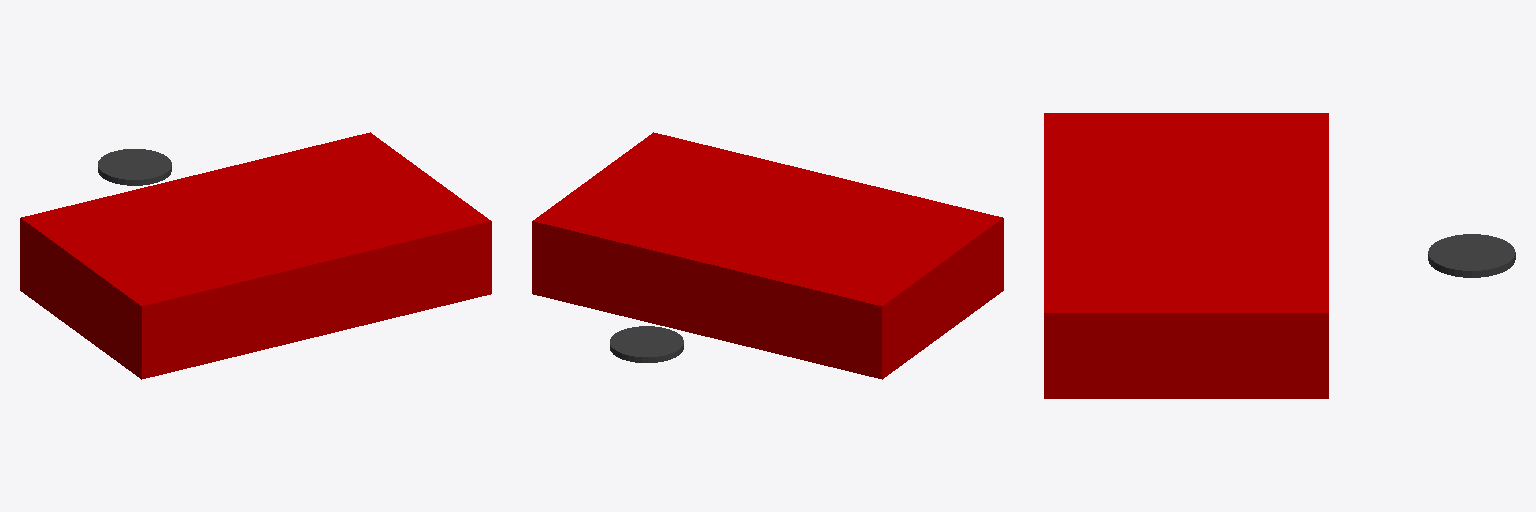
The robot description file, URDF, robot "doogie":
<?xml version="1.0" ?>
<!-- =================================================================================== -->
<!-- |    This document was autogenerated by xacro from [local-path]/workspaces/doogie_ws/src/doogie_description/urdf/doogie.urdf.xacro | -->
<!-- |    EDITING THIS FILE BY HAND IS NOT RECOMMENDED                                 | -->
<!-- =================================================================================== -->
<robot name="doogie" xmlns:xacro="http://ros.org/wiki/xacro">
  <!-- Init colour -->
  <material name="black">
    <color rgba="0.0 0.0 0.0 1.0"/>
  </material>
  <material name="dark">
    <color rgba="0.3 0.3 0.3 1.0"/>
  </material>
  <material name="light_black">
    <color rgba="0.4 0.4 0.4 1.0"/>
  </material>
  <material name="blue">
    <color rgba="0.0 0.0 0.8 1.0"/>
  </material>
  <material name="green">
    <color rgba="0.0 0.8 0.0 1.0"/>
  </material>
  <material name="grey">
    <color rgba="0.5 0.5 0.5 1.0"/>
  </material>
  <material name="orange">
    <color rgba="1.0 0.423529411765 0.0392156862745 1.0"/>
  </material>
  <material name="brown">
    <color rgba="0.870588235294 0.811764705882 0.764705882353 1.0"/>
  </material>
  <material name="red">
    <color rgba="0.8 0.0 0.0 1.0"/>
  </material>
  <material name="white">
    <color rgba="1.0 1.0 1.0 1.0"/>
  </material>
  <!-- Include -->
  <!--xacro:include filename="$(find doogie_description)/urdf/common_properties.xacro"/-->
  <link name="doogie/base_link">
    <inertial>
      <origin rpy="0 0 0" xyz="0 0 0"/>
      <mass value="2.5"/>
      <inertia ixx="0.0001" ixy="0.0001" ixz="0.0001" iyy="0.0001" iyz="0.0001" izz="0.0001"/>
    </inertial>
    <visual name="">
      <origin rpy="0 0 0" xyz="0 0 0"/>
      <geometry>
        <box size="0.5 0.3 0.1"/>
      </geometry>
      <material name="red"/>
    </visual>
    <collision>
      <origin rpy="0 0 0" xyz="0 0 0"/>
      <geometry>
        <box size="0.5 0.3 0.1"/>
      </geometry>
    </collision>
  </link>
  <link name="wheel/front_left">
    <inertial>
      <origin rpy="0.0 0.0 0.0" xyz="0.0 0.0 0.0"/>
      <mass value="2.6"/>
      <inertia ixx="0.02467" ixy="0" ixz="0" iyy="0.04411" iyz="0" izz="0.02467"/>
    </inertial>
    <visual>
      <origin rpy="0.0 0.0 0.0" xyz="0.0 0.0 0.0"/>
      <geometry>
        <cylinder length="0.008" radius="0.046"/>
      </geometry>
      <material name="dark"/>
    </visual>
    <collision>
      <origin rpy="0.0 0.0 0.0" xyz="0.0 0.0 0.0"/>
      <geometry>
        <cylinder length="0.008" radius="0.046"/>
      </geometry>
    </collision>
  </link>
  <gazebo reference="wheel/front_left_link">
    <material>Gazebo/DarkGrey</material>
    <selfCollide>false</selfCollide>
    <mu1 value="0.5"/>
    <mu2 value="0.5"/>
    <kp value="10000000.0"/>
    <kd value="1"/>
    <fdir1 value="1 0 0"/>
  </gazebo>
  <joint name="wheel/front_left_joint" type="continuous">
    <parent link="doogie/base_link"/>
    <child link="wheel/front_left"/>
    <origin rpy="0 0 0" xyz="0 0.3 0"/>
    <axis xyz="0 0 0"/>
  </joint>
  <link name="wheel/front_right">
    <inertial>
      <origin rpy="0.0 0.0 0.0" xyz="0.0 0.0 0.0"/>
      <mass value="2.6"/>
      <inertia ixx="0.02467" ixy="0" ixz="0" iyy="0.04411" iyz="0" izz="0.02467"/>
    </inertial>
    <visual>
      <origin rpy="0.0 0.0 0.0" xyz="0.0 0.0 0.0"/>
      <geometry>
        <cylinder length="0.008" radius="0.046"/>
      </geometry>
      <material name="dark"/>
    </visual>
    <collision>
      <origin rpy="0.0 0.0 0.0" xyz="0.0 0.0 0.0"/>
      <geometry>
        <cylinder length="0.008" radius="0.046"/>
      </geometry>
    </collision>
  </link>
  <gazebo reference="wheel/front_right_link">
    <material>Gazebo/DarkGrey</material>
    <selfCollide>false</selfCollide>
    <mu1 value="0.5"/>
    <mu2 value="0.5"/>
    <kp value="10000000.0"/>
    <kd value="1"/>
    <fdir1 value="1 0 0"/>
  </gazebo>
  <joint name="wheel/front_right_joint" type="continuous">
    <parent link="doogie/base_link"/>
    <child link="wheel/front_right"/>
    <origin rpy="0 0 0" xyz="0 0 0"/>
    <axis xyz="0 0 0"/>
  </joint>
  <link name="wheel/rear_left">
    <inertial>
      <origin rpy="0.0 0.0 0.0" xyz="0.0 0.0 0.0"/>
      <mass value="2.6"/>
      <inertia ixx="0.02467" ixy="0" ixz="0" iyy="0.04411" iyz="0" izz="0.02467"/>
    </inertial>
    <visual>
      <origin rpy="0.0 0.0 0.0" xyz="0.0 0.0 0.0"/>
      <geometry>
        <cylinder length="0.008" radius="0.046"/>
      </geometry>
      <material name="dark"/>
    </visual>
    <collision>
      <origin rpy="0.0 0.0 0.0" xyz="0.0 0.0 0.0"/>
      <geometry>
        <cylinder length="0.008" radius="0.046"/>
      </geometry>
    </collision>
  </link>
  <gazebo reference="wheel/rear_left_link">
    <material>Gazebo/DarkGrey</material>
    <selfCollide>false</selfCollide>
    <mu1 value="0.5"/>
    <mu2 value="0.5"/>
    <kp value="10000000.0"/>
    <kd value="1"/>
    <fdir1 value="1 0 0"/>
  </gazebo>
  <joint name="wheel/rear_left_joint" type="continuous">
    <parent link="doogie/base_link"/>
    <child link="wheel/rear_left"/>
    <origin rpy="0 0 0" xyz="0 0 0"/>
    <axis xyz="0 0 0"/>
  </joint>
  <link name="wheel/rear_right">
    <inertial>
      <origin rpy="0.0 0.0 0.0" xyz="0.0 0.0 0.0"/>
      <mass value="2.6"/>
      <inertia ixx="0.02467" ixy="0" ixz="0" iyy="0.04411" iyz="0" izz="0.02467"/>
    </inertial>
    <visual>
      <origin rpy="0.0 0.0 0.0" xyz="0.0 0.0 0.0"/>
      <geometry>
        <cylinder length="0.008" radius="0.046"/>
      </geometry>
      <material name="dark"/>
    </visual>
    <collision>
      <origin rpy="0.0 0.0 0.0" xyz="0.0 0.0 0.0"/>
      <geometry>
        <cylinder length="0.008" radius="0.046"/>
      </geometry>
    </collision>
  </link>
  <gazebo reference="wheel/rear_right_link">
    <material>Gazebo/DarkGrey</material>
    <selfCollide>false</selfCollide>
    <mu1 value="0.5"/>
    <mu2 value="0.5"/>
    <kp value="10000000.0"/>
    <kd value="1"/>
    <fdir1 value="1 0 0"/>
  </gazebo>
  <joint name="wheel/rear_right_joint" type="continuous">
    <parent link="doogie/base_link"/>
    <child link="wheel/rear_right"/>
    <origin rpy="0 0 0" xyz="0 0 0"/>
    <axis xyz="0 0 0"/>
  </joint>
</robot>

--- What the picture shows (computed from the rendered views, not written in the file) ---
3 views of the same robot in one strip: view 1: azimuth 30°, elevation 25°; view 2: azimuth 150°, elevation 25°; view 3: azimuth 270°, elevation 25° (orthographic).
Model doogie with 5 links and 4 joints (4 continuous), rooted at doogie/base_link, posed every joint at zero.
Links seen in each view (by area): view 1: doogie/base_link, wheel/front_left; view 2: doogie/base_link, wheel/front_left; view 3: doogie/base_link, wheel/front_left.
Link boxes in pixels (x1,y1,x2,y2): doogie/base_link: [20, 132, 491, 379]; wheel/front_left: [98, 149, 171, 185]; doogie/base_link: [532, 132, 1003, 379]; wheel/front_left: [610, 326, 683, 362]; doogie/base_link: [1044, 113, 1328, 398]; wheel/front_left: [1428, 234, 1515, 277].
Bounding box of the posed robot: 0.5 × 0.496 × 0.1 m (x, y, z).
Geometry: primitives only (box / cylinder / sphere), no mesh files.
